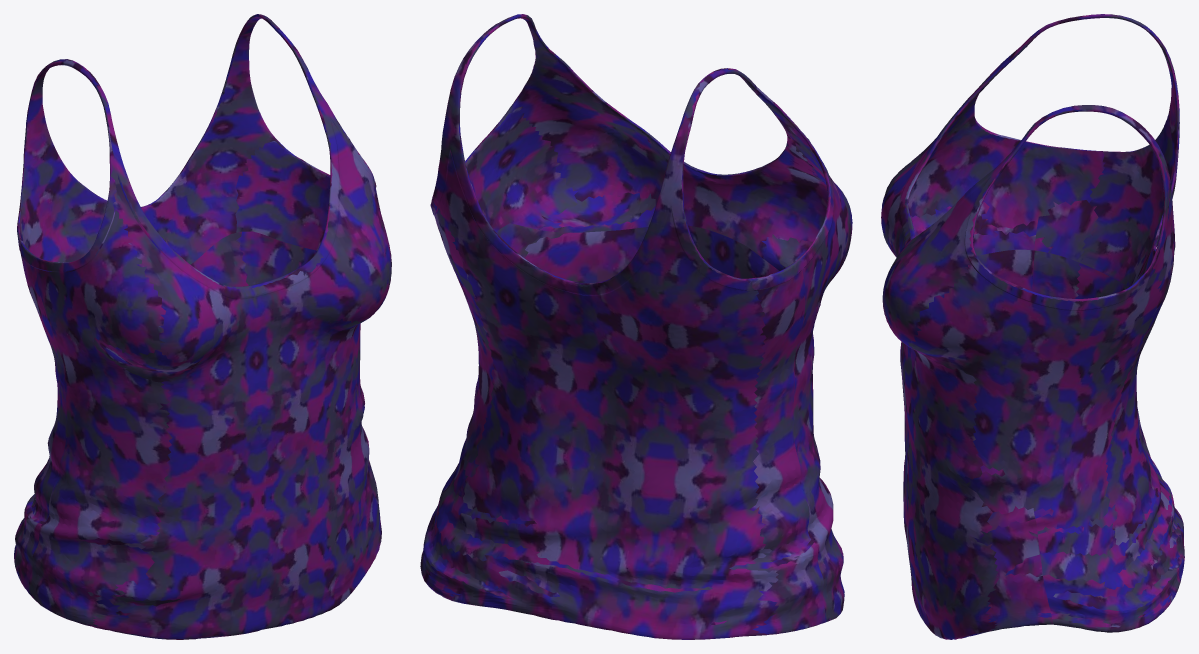
The model's file is elvs-ladies-tank1.glb.
The picture shows the model from 3 angles, left to right: view 1: azimuth 30°, elevation 25°; view 2: azimuth 150°, elevation 25°; view 3: azimuth 270°, elevation 25°; orthographic projection. The views are drawn at different scales.
Visible parts, largest first — view 1: ladies tank; view 2: ladies tank; view 3: ladies tank.
Boxes of the visible parts, x1,y1,x2,y2 form: ladies tank: [14, 14, 391, 639]; ladies tank: [420, 14, 852, 639]; ladies tank: [881, 14, 1184, 639].
Size of the model in its own units: 32.56 by 48.65 by 25.06.
1 material, 1 textured.
